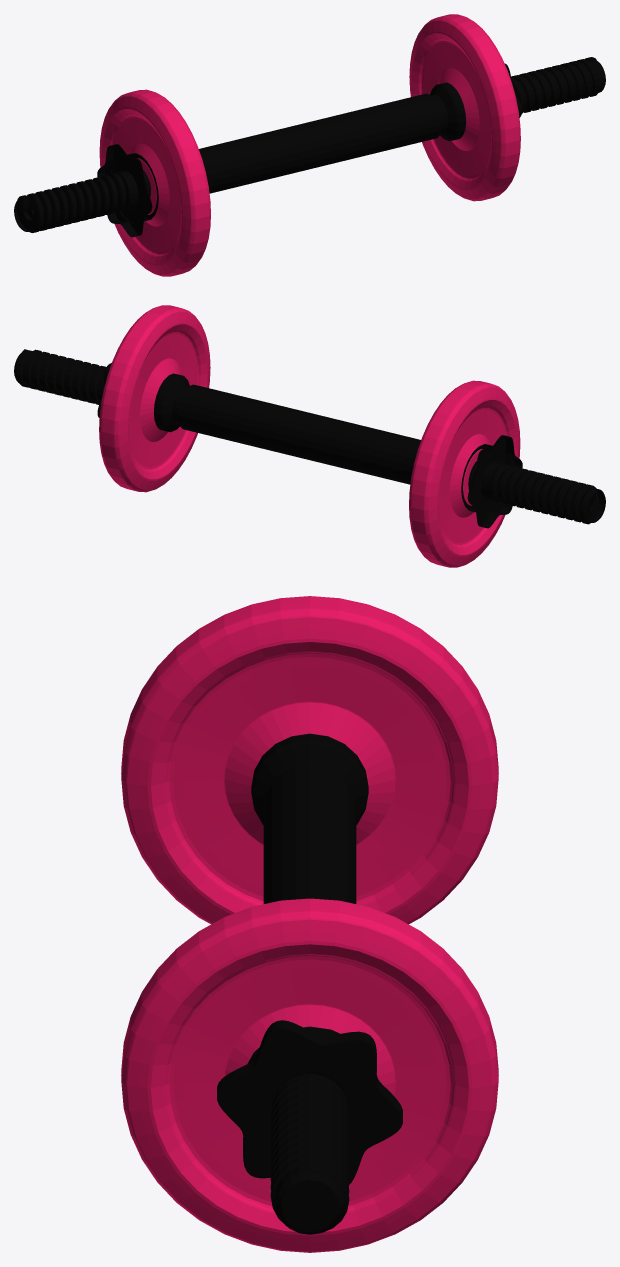
The model's file is poids_t_.fbx.
3 views of the same model, one above another, from view 1: azimuth 30°, elevation 25°; view 2: azimuth 150°, elevation 25°; view 3: azimuth 270°, elevation 25° (orthographic). The views are drawn at different scales.
Parts seen in each view (by area): view 1: Weight; view 2: Weight; view 3: Weight.
Boxes of the visible parts, x1,y1,x2,y2 form: Weight: (14,14,605,276); Weight: (14,305,605,567); Weight: (121,596,498,1252).
Bounding box in the file's own units: 187 × 53.03 × 53.03.
